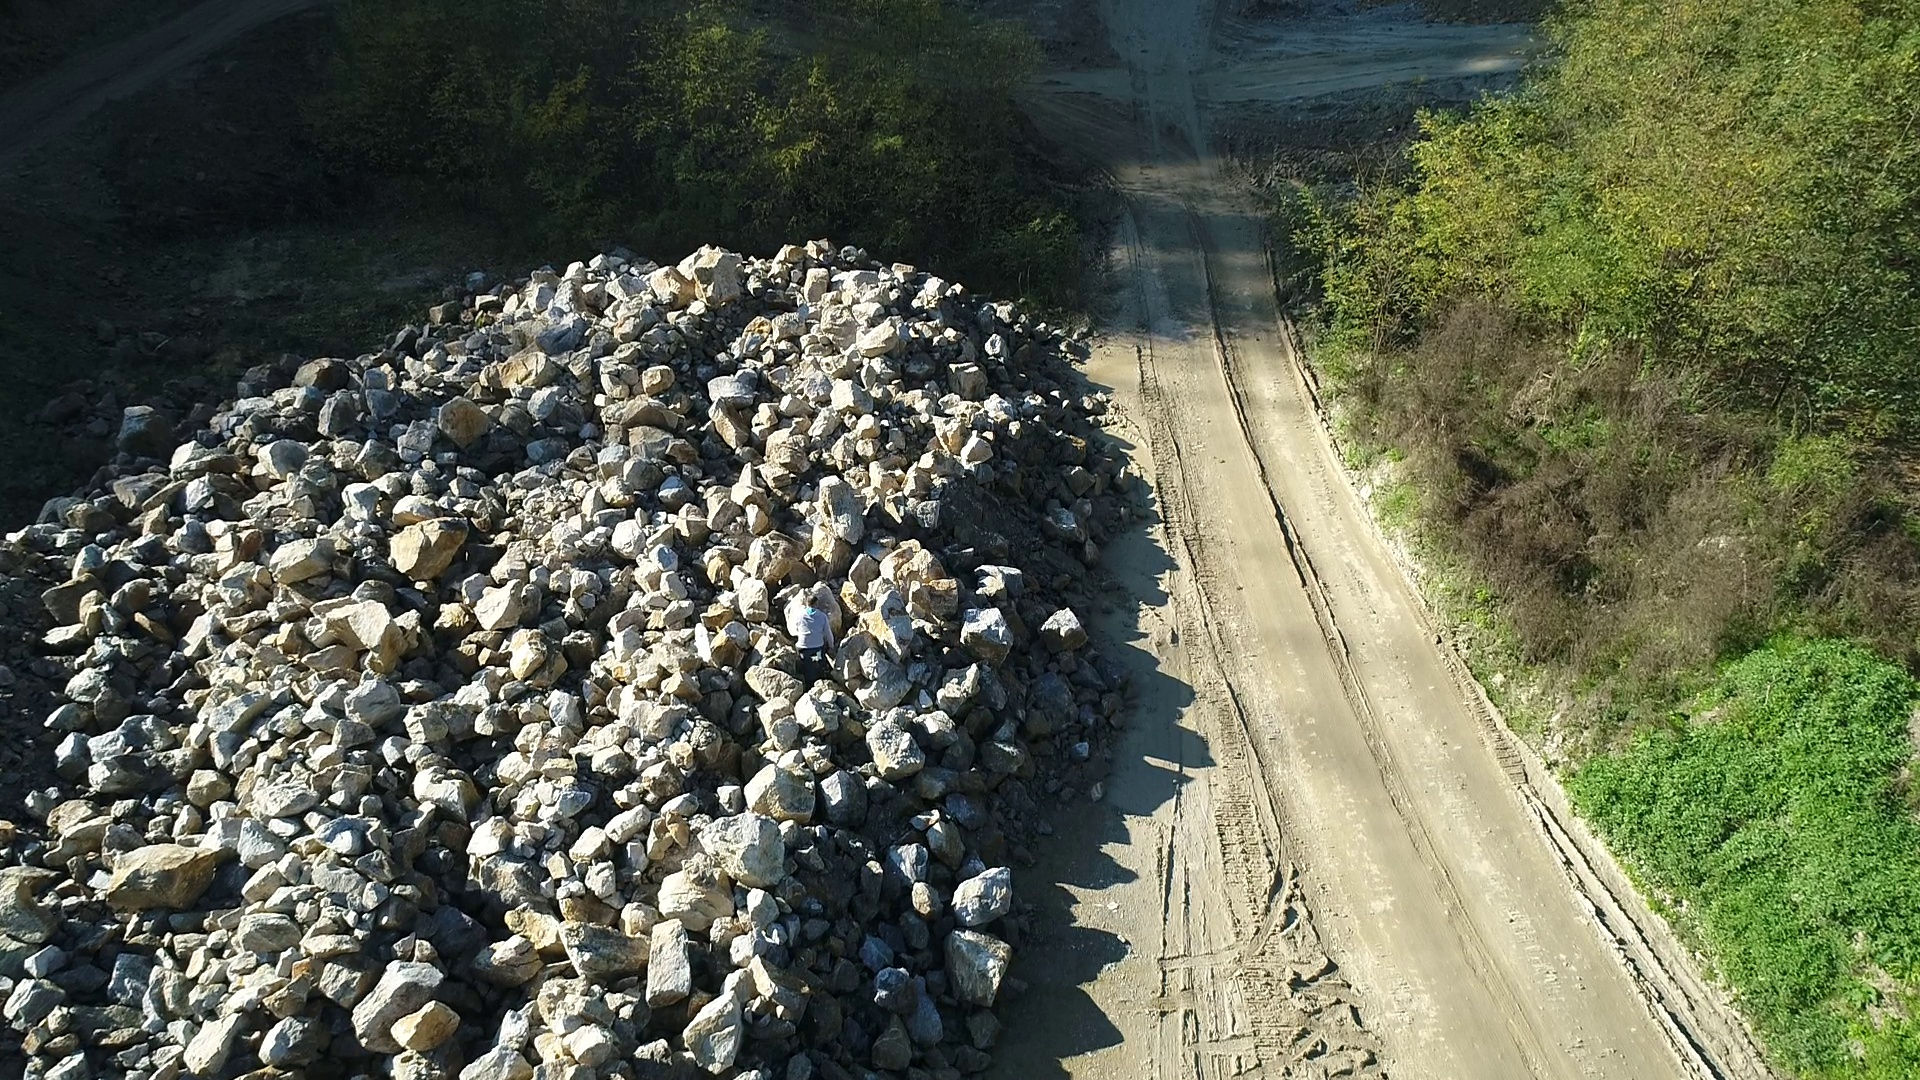not_defined: (789, 593, 833, 673)
